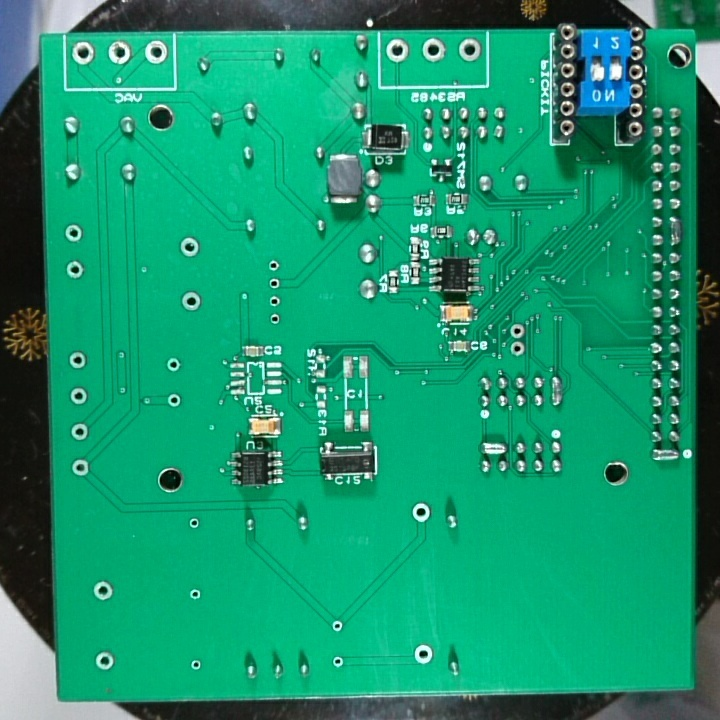F: (383, 38, 414, 66), (420, 36, 448, 65), (105, 38, 133, 66), (142, 38, 168, 66), (457, 35, 482, 64), (408, 499, 434, 526), (70, 40, 94, 69), (89, 577, 117, 601), (179, 289, 204, 314), (177, 235, 202, 259), (92, 649, 117, 673), (65, 349, 91, 372), (411, 642, 434, 668), (62, 259, 87, 281), (62, 222, 85, 244), (68, 420, 91, 442), (70, 456, 92, 478), (68, 385, 90, 406), (506, 340, 528, 359), (163, 391, 184, 410), (164, 355, 183, 375), (508, 320, 527, 340), (185, 514, 202, 534), (265, 275, 283, 293), (187, 656, 205, 673), (187, 585, 204, 603), (328, 617, 345, 635), (267, 293, 284, 310), (266, 310, 283, 327), (329, 653, 346, 670), (265, 258, 282, 274)
P: (478, 440, 511, 458), (650, 446, 682, 463), (667, 212, 682, 248), (548, 374, 563, 409)
